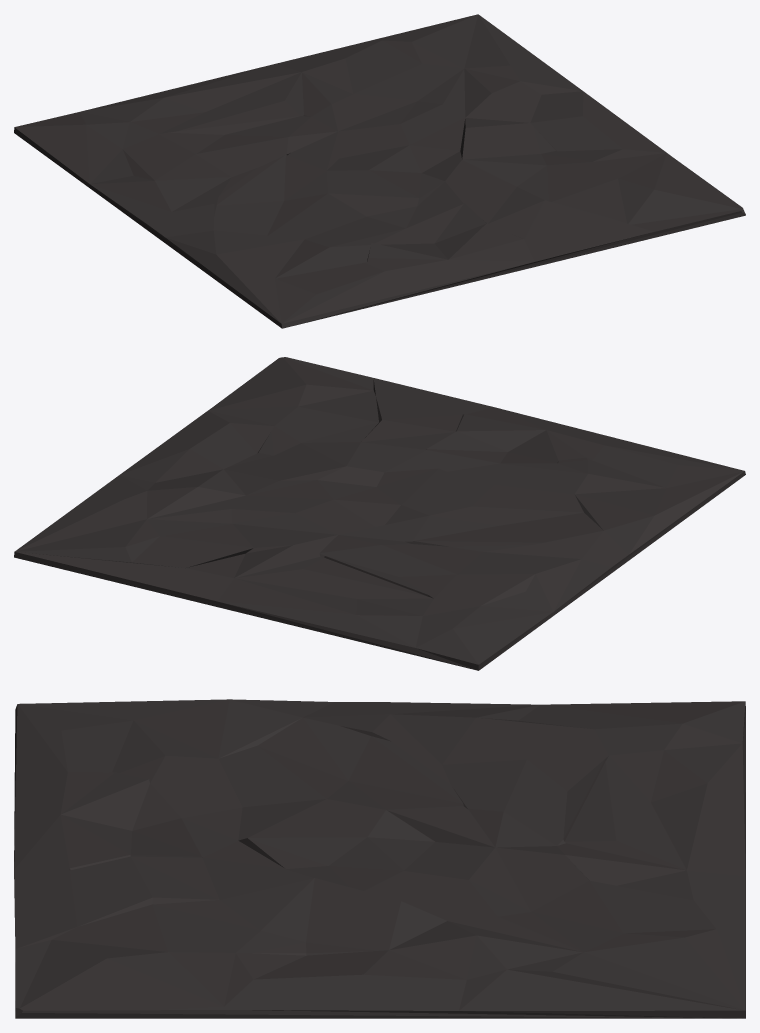
The model's file is Module_Stone_2M.glb.
The picture shows the model from 3 angles, top to bottom: view 1: azimuth 30°, elevation 25°; view 2: azimuth 150°, elevation 25°; view 3: azimuth 270°, elevation 25°; orthographic projection. The views are drawn at different scales.
Parts seen in each view (by area): view 1: Module_Stone_2M; view 2: Module_Stone_2M; view 3: Module_Stone_2M.
Part boxes in pixels (box(x1,y1,x2,y2)): Module_Stone_2M: box(14, 14, 745, 328); Module_Stone_2M: box(14, 357, 745, 670); Module_Stone_2M: box(14, 699, 745, 1018).
Size of what is drawn, in the model's own units: 2 by 0.0792 by 2.
1 material, 1 textured.
